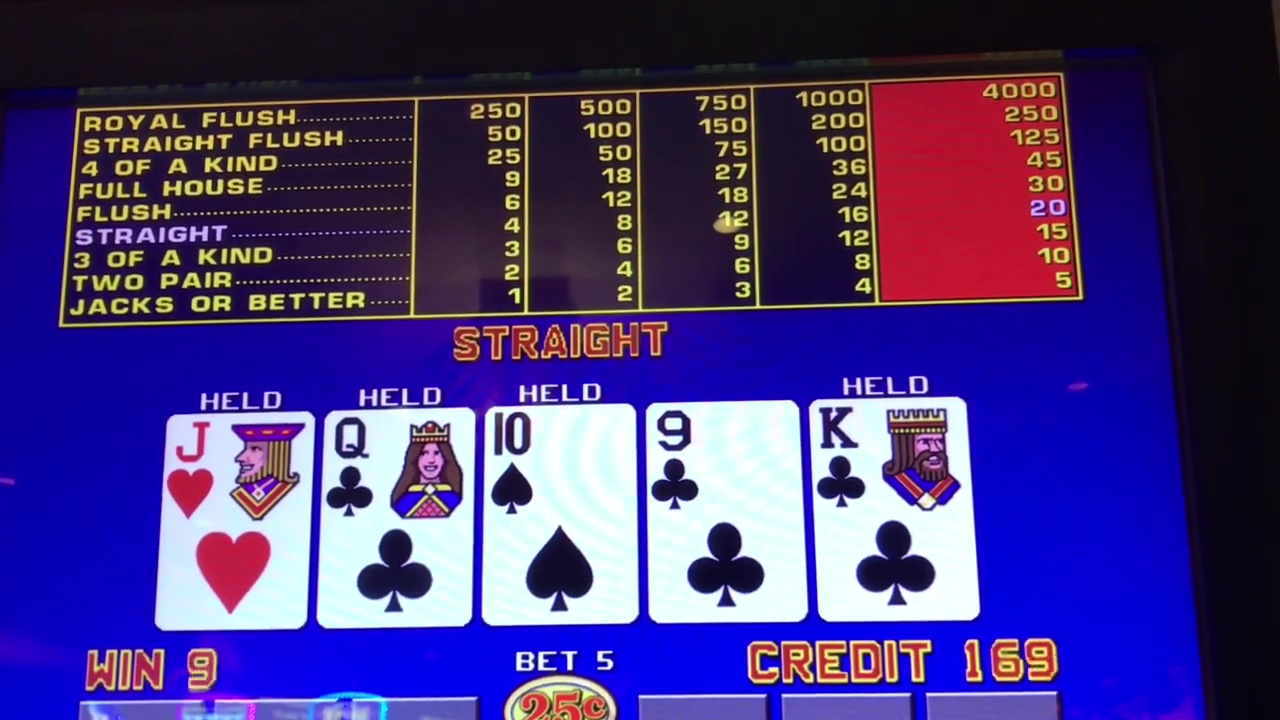C9: (653, 401, 794, 624)
CK: (819, 399, 963, 614)
CQ: (324, 408, 467, 629)
HJ: (173, 414, 306, 628)
ST: (485, 408, 630, 620)
